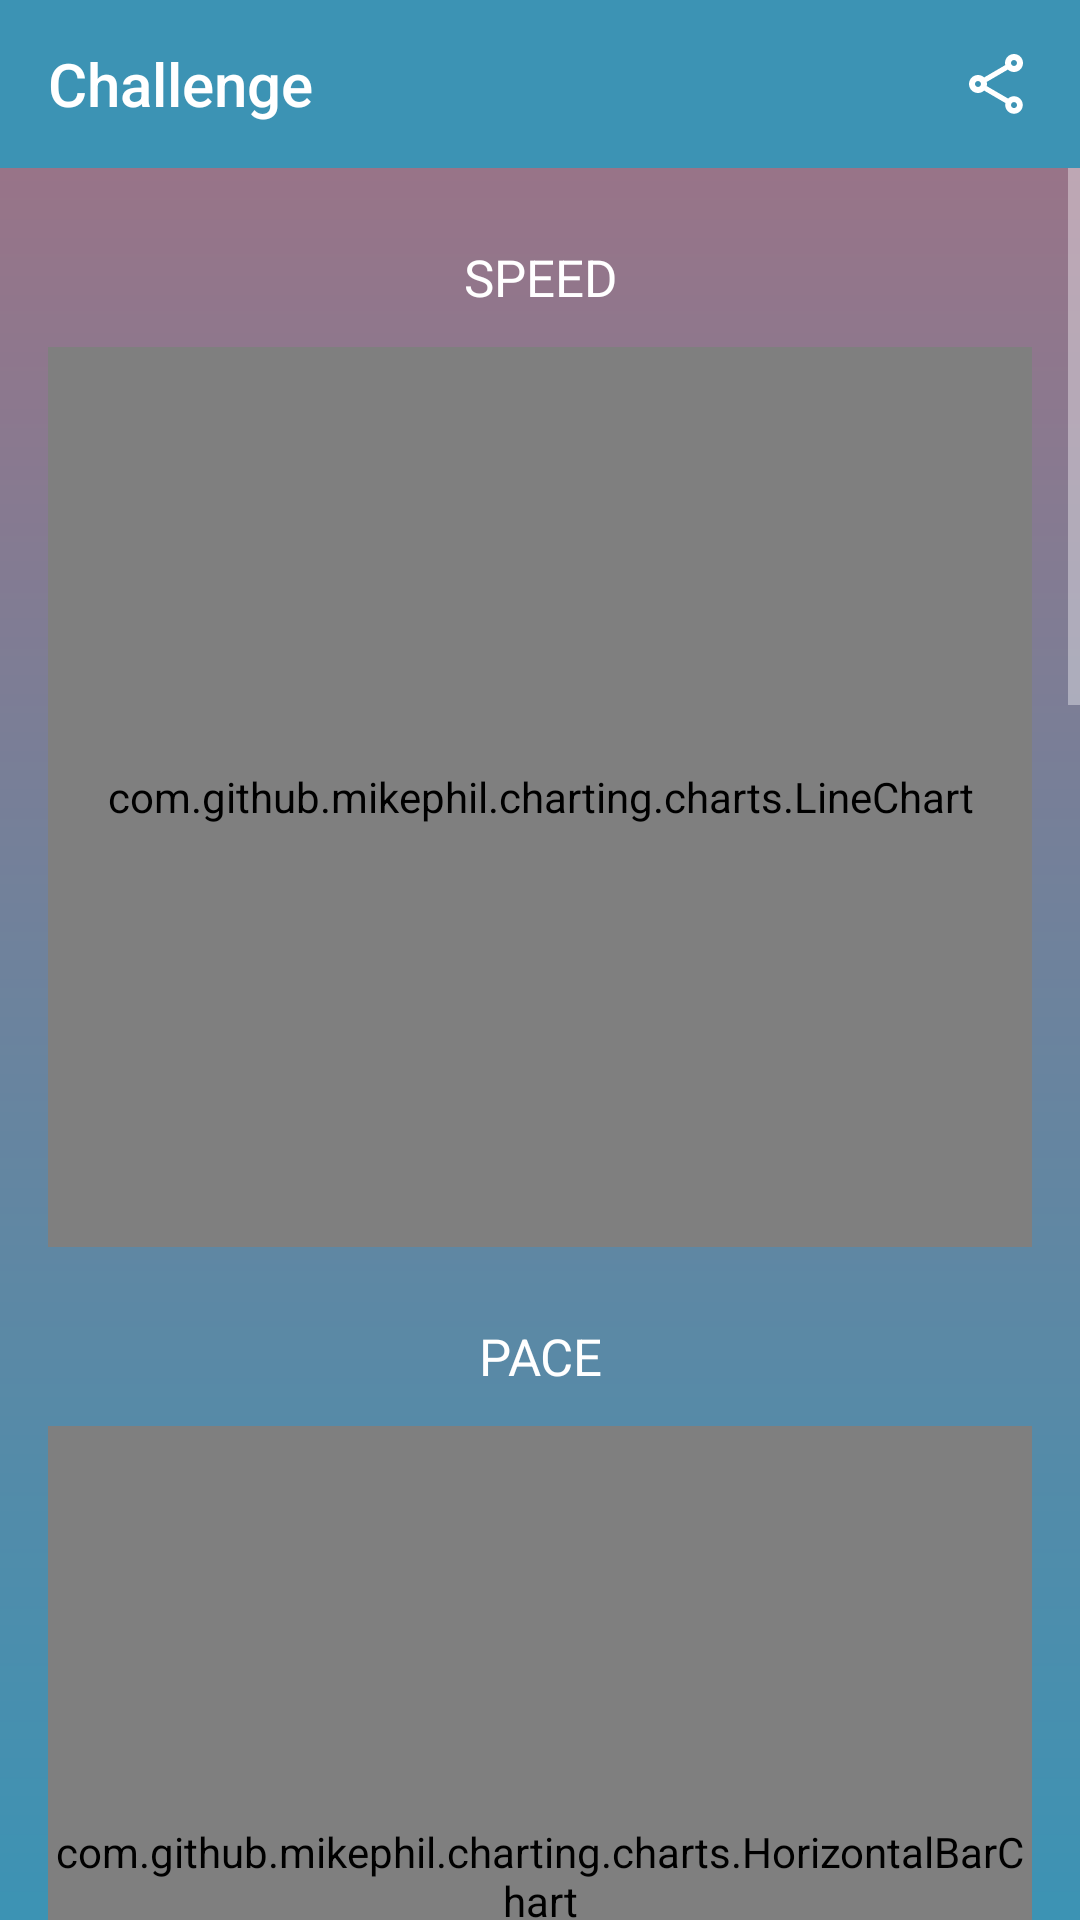

Icon click points for this 1080 × 1920 phone screenshot, format point (x, y):
share: point (996, 84)
